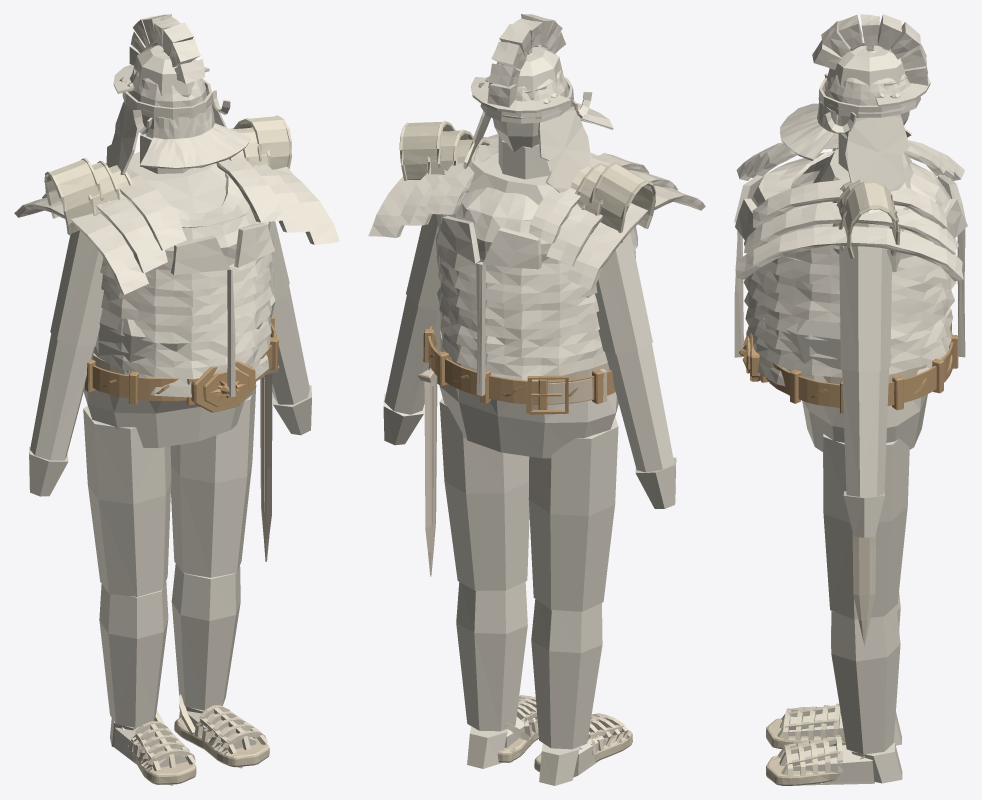
File: roman-male-fat.glb
The picture shows the model from 3 angles, left to right: view 1: azimuth 30°, elevation 25°; view 2: azimuth 150°, elevation 25°; view 3: azimuth 270°, elevation 25°; orthographic projection. The views are drawn at different scales.
Parts seen in each view (by area): view 1: leg_upper_l, leg_upper_r, torso, leg_lower_r, leg_lower_l, arm_lower_l, arm_upper_l, helmet:neck_guard, cuirass:girth_hoop_4, cuirass:shoulder_lame_r2, arm_lower_r, cuirass:girth_hoop_5 (+35 smaller); view 2: leg_upper_l, leg_upper_r, torso, leg_lower_r, leg_lower_l, arm_lower_l, arm_upper_l, arm_lower_r, helmet:cheek_guard_r, cuirass:shoulder_lame_r2, cuirass:girth_hoop_2, cuirass:girth_hoop_1 (+39 smaller); view 3: leg_upper_r, leg_lower_r, arm_upper_r, torso, arm_lower_r, cuirass:shoulder_lame_l2, helmet:cheek_guard_l, cuirass:shoulder_lame_l1, cuirass:shoulder_lame_l0, cuirass:girth_hoop_4, cuirass:girth_hoop_5, cuirass:girth_hoop_1 (+36 smaller).
Boxes of the visible parts, x1,y1,x2,y2 form: leg_upper_l: (83, 406, 171, 596); leg_upper_r: (170, 384, 256, 577); torso: (83, 152, 275, 448); leg_lower_r: (171, 563, 240, 710); leg_lower_l: (99, 581, 168, 727); arm_lower_l: (30, 333, 95, 460); arm_upper_l: (50, 230, 103, 346); helmet:neck_guard: (140, 104, 250, 168); cuirass:girth_hoop_4: (101, 269, 274, 325); cuirass:shoulder_lame_r2: (14, 197, 148, 294); arm_lower_r: (272, 286, 309, 404); cuirass:girth_hoop_5: (101, 261, 271, 307); leg_upper_l: (528, 416, 618, 611); leg_upper_r: (439, 398, 529, 590); torso: (436, 152, 618, 458); leg_lower_r: (456, 581, 527, 731); leg_lower_l: (531, 599, 602, 749); arm_lower_l: (605, 343, 674, 472); arm_upper_l: (595, 232, 652, 354); arm_lower_r: (384, 295, 440, 414); helmet:cheek_guard_r: (538, 106, 593, 192); cuirass:shoulder_lame_r2: (567, 185, 705, 289); cuirass:girth_hoop_2: (440, 311, 602, 358); cuirass:girth_hoop_1: (441, 329, 607, 376); leg_upper_r: (823, 434, 909, 619); leg_lower_r: (831, 605, 900, 754); arm_upper_r: (839, 246, 891, 371); torso: (763, 149, 927, 451); arm_lower_r: (842, 368, 888, 496); cuirass:shoulder_lame_l2: (735, 226, 963, 281); helmet:cheek_guard_l: (845, 114, 912, 191); cuirass:shoulder_lame_l1: (744, 203, 956, 254); cuirass:shoulder_lame_l0: (752, 179, 947, 228); cuirass:girth_hoop_4: (743, 276, 956, 322); cuirass:girth_hoop_5: (750, 266, 949, 303); cuirass:girth_hoop_1: (746, 326, 951, 377).
Size of the model in its own units: 0.7501 by 1.85 by 0.5222.
